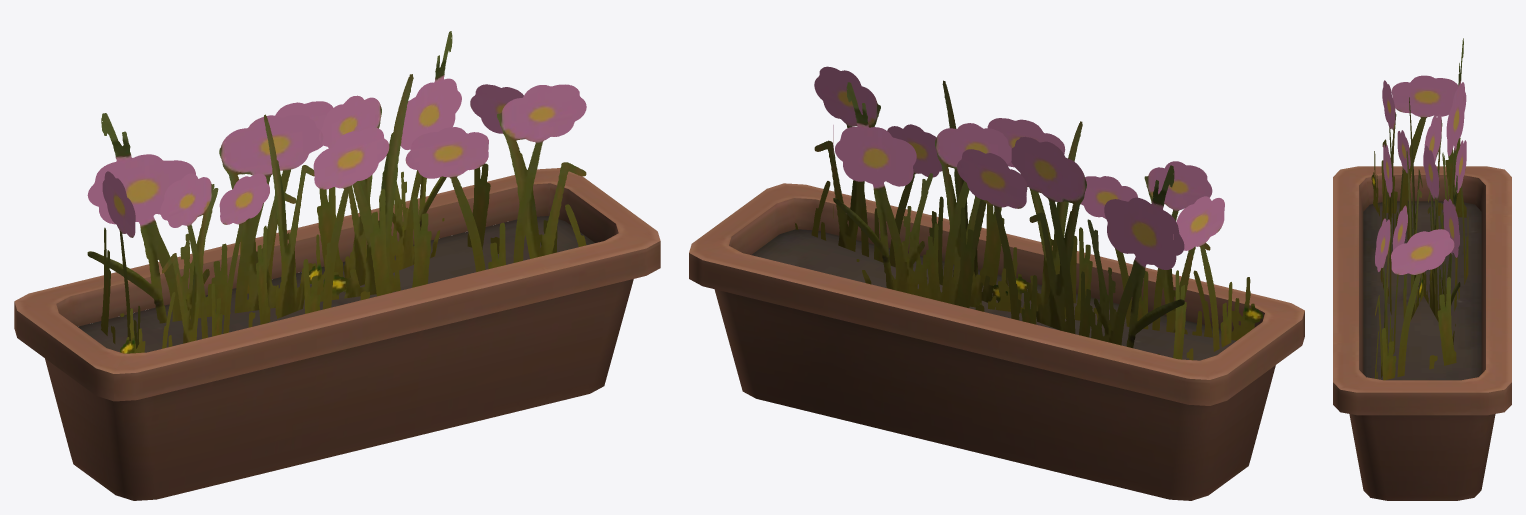
3 views of the same model, side by side, from view 1: azimuth 30°, elevation 25°; view 2: azimuth 150°, elevation 25°; view 3: azimuth 270°, elevation 25° (orthographic). The views are drawn at different scales.
Parts seen in each view (by area): view 1: body0_model0_lod0_mesh0; view 2: body0_model0_lod0_mesh0; view 3: body0_model0_lod0_mesh0.
Boxes of the visible parts, x1,y1,x2,y2 form: body0_model0_lod0_mesh0: (14,31,660,500); body0_model0_lod0_mesh0: (689,66,1304,500); body0_model0_lod0_mesh0: (1333,38,1511,500).
Bounding box in the file's own units: 49.97 × 30.55 × 16.69.
1 material, 1 textured.
